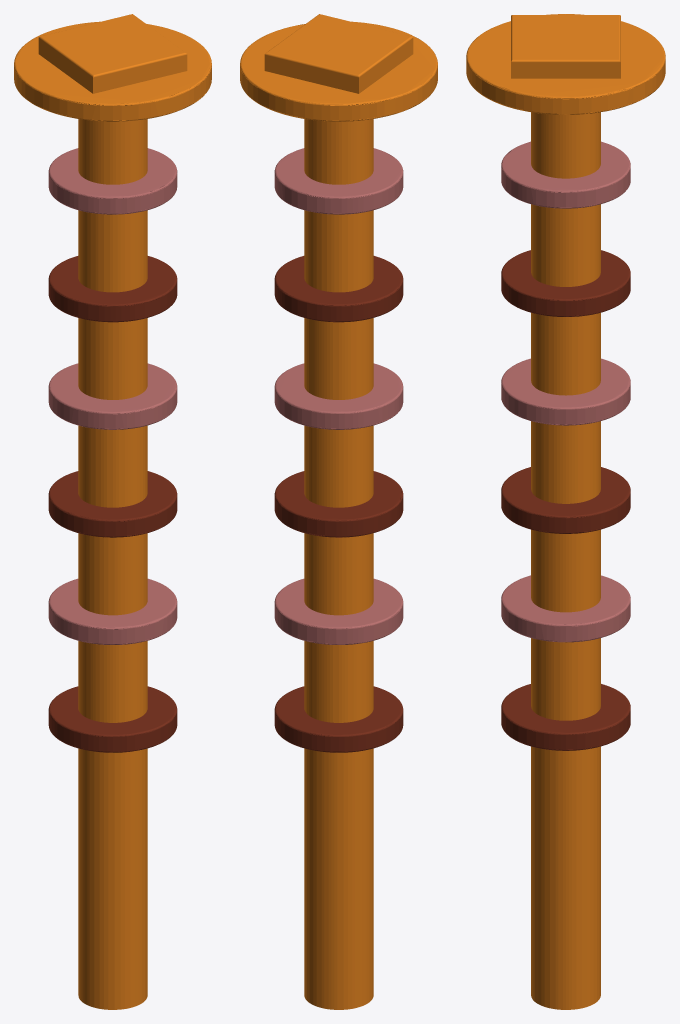
File: RodSquare.fbx
3 renders of one model, left to right at view 1: azimuth 30°, elevation 25°; view 2: azimuth 150°, elevation 25°; view 3: azimuth 270°, elevation 25°, orthographic.
Visible parts, largest first — view 1: Rod Square; view 2: Rod Square; view 3: Rod Square.
Boxes of the visible parts, x1,y1,x2,y2 form: Rod Square: [14, 14, 211, 1009]; Rod Square: [240, 14, 437, 1009]; Rod Square: [466, 14, 665, 1009].
Size of the model in its own units: 20 by 106 by 20.
